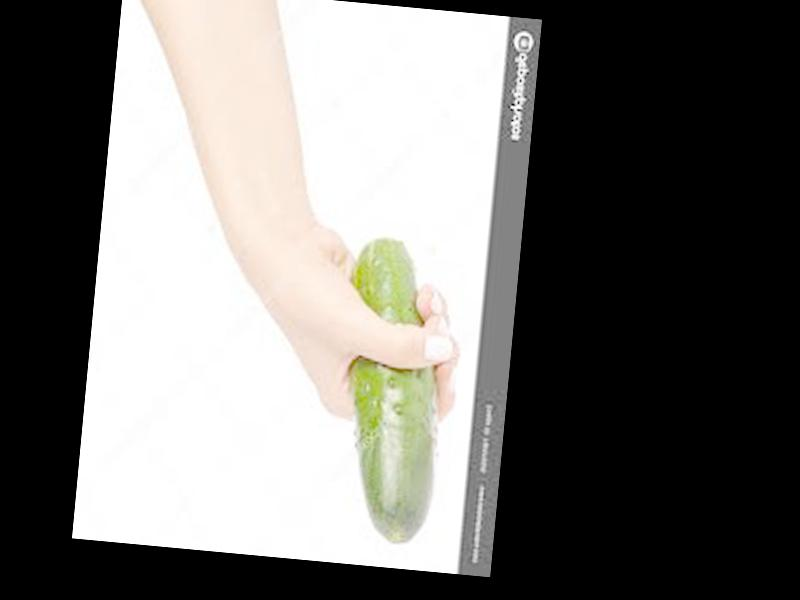Cucumber: (327, 237, 455, 547)
